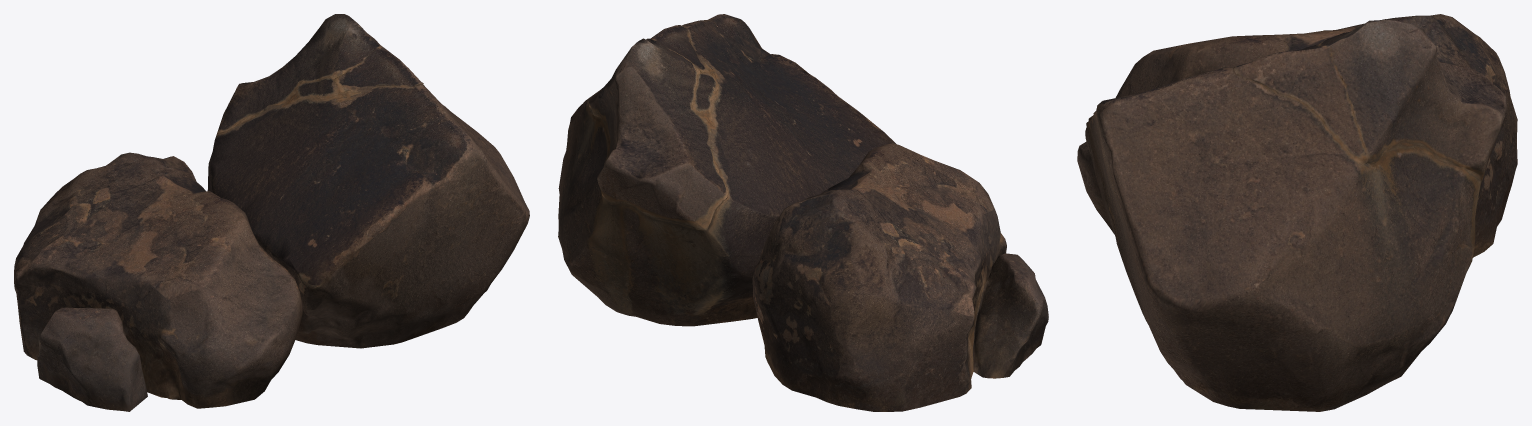
Rendered from SM_ydppbe2_tier_2.gltf.
The picture shows the model from 3 angles, left to right: view 1: azimuth 30°, elevation 25°; view 2: azimuth 150°, elevation 25°; view 3: azimuth 270°, elevation 25°; orthographic projection. The views are drawn at different scales.
Visible parts, largest first — view 1: ydppbe2_LOD2_TIER2_000; view 2: ydppbe2_LOD2_TIER2_000; view 3: ydppbe2_LOD2_TIER2_000.
Part boxes in pixels (x1=…): ydppbe2_LOD2_TIER2_000: x1=14, y1=14, x2=529, y2=411; ydppbe2_LOD2_TIER2_000: x1=558, y1=14, x2=1048, y2=411; ydppbe2_LOD2_TIER2_000: x1=1077, y1=14, x2=1517, y2=411.
Size of the model in its own units: 1.81 by 0.9813 by 1.13.
Materials: 1 (1 with a texture image).
